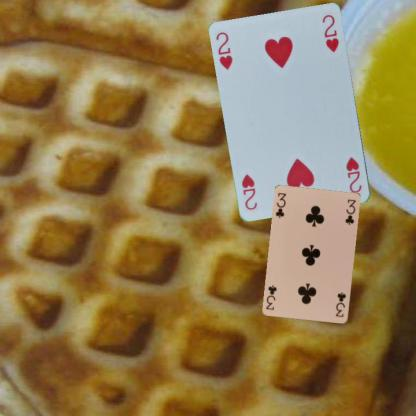2h: (214, 30, 234, 71), (344, 154, 363, 195)
3c: (273, 190, 288, 219), (334, 289, 348, 318)
